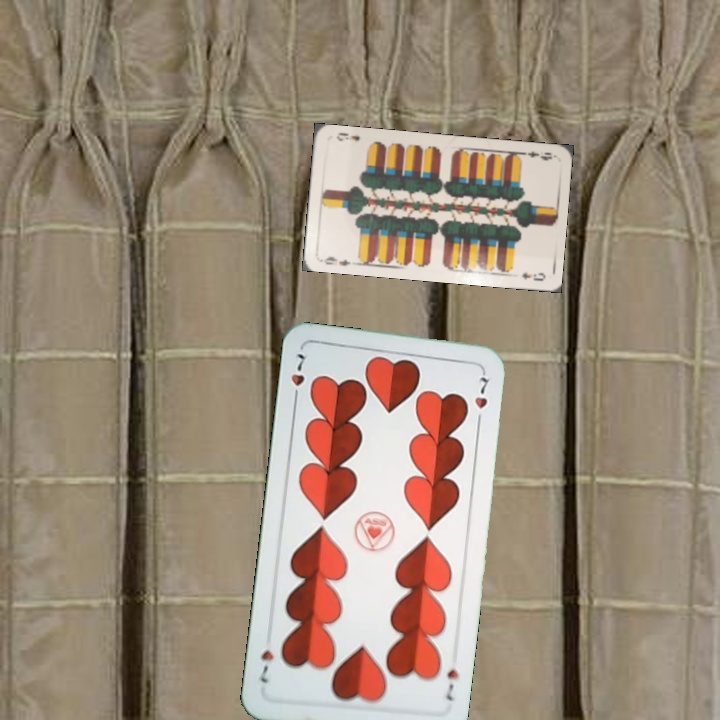E9: (516, 147, 556, 163), (317, 252, 353, 268)
H7: (287, 348, 308, 406), (441, 664, 461, 704)
